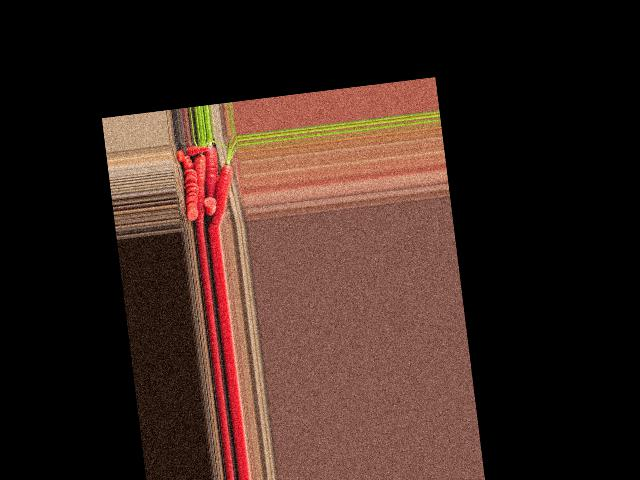carrot: (185, 148, 217, 230)
